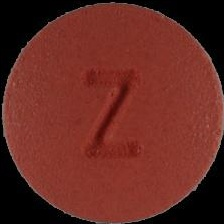68084-271: (0, 0, 224, 224)
